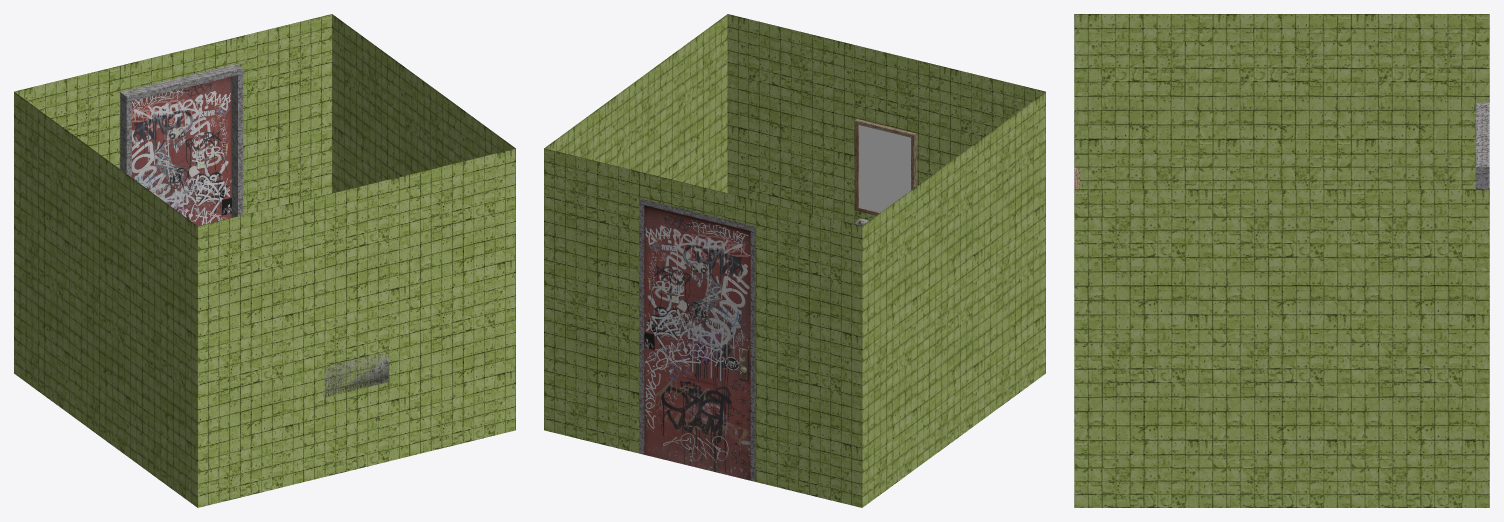
Rendered from Bathroom.fbx.
3 renders of one model, left to right at view 1: azimuth 30°, elevation 25°; view 2: azimuth 150°, elevation 25°; view 3: azimuth 270°, elevation 25°, orthographic. The views are drawn at different scales.
Visible parts, largest first — view 1: Group4, Group2, Group3, Group1; view 2: Group4, Group2, Group5, Group3, Group6; view 3: Group4, Group3.
Part boxes in pixels (left/top/right/bottom): Group4: left=14, top=14, right=515, bottom=507; Group2: left=132, top=76, right=231, bottom=225; Group3: left=120, top=64, right=243, bottom=217; Group1: left=324, top=353, right=389, bottom=409; Group4: left=544, top=14, right=1045, bottom=507; Group2: left=644, top=205, right=750, bottom=480; Group5: left=859, top=125, right=910, bottom=212; Group3: left=639, top=198, right=755, bottom=481; Group6: left=854, top=119, right=916, bottom=215; Group4: left=1074, top=14, right=1489, bottom=507; Group3: left=1475, top=102, right=1489, bottom=189.
Bounding box in the file's own units: 3 × 2.54 × 3.
